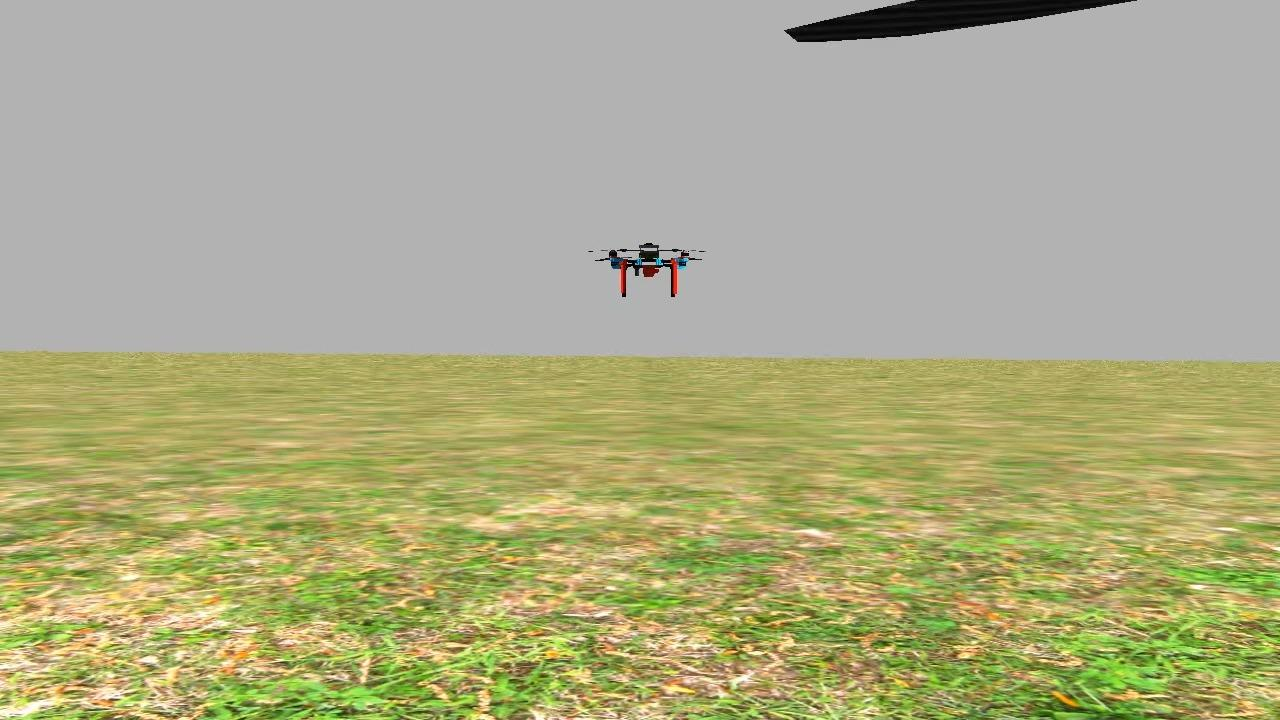UAV: (596, 236, 706, 308)
